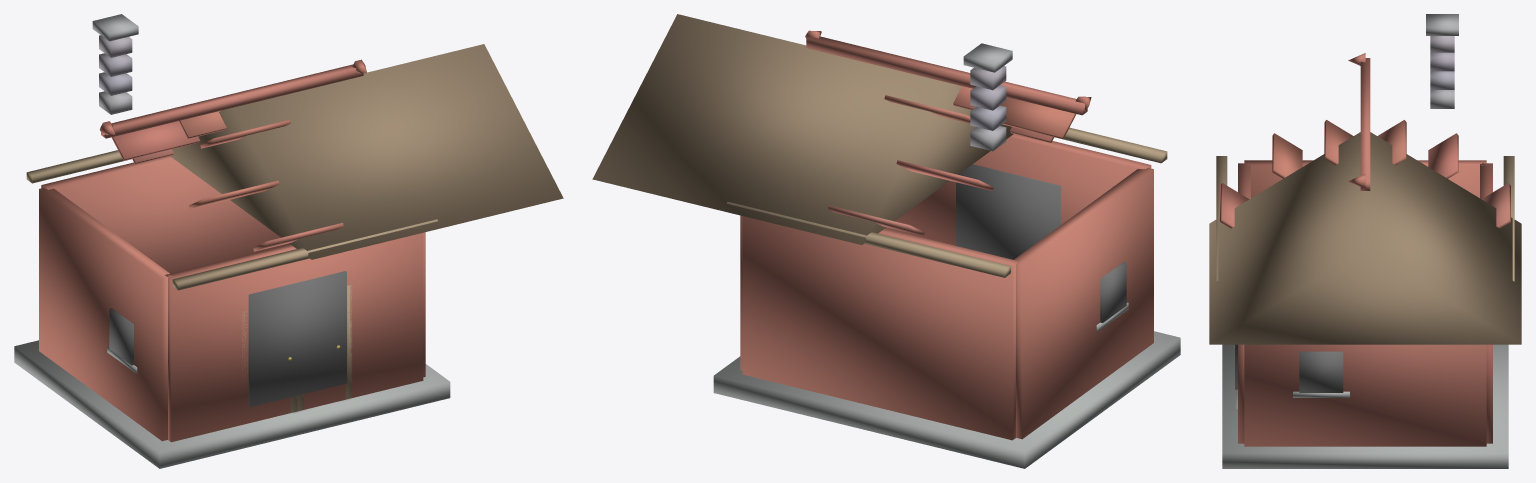
File: building_barn.glb
The picture shows the model from 3 angles, left to right: view 1: azimuth 30°, elevation 25°; view 2: azimuth 150°, elevation 25°; view 3: azimuth 270°, elevation 25°; orthographic projection. The views are drawn at different scales.
Visible parts, largest first — view 1: roof_body, front, side_-1, back, foundation, front_open, ridge, eave_1, tile_1_1, eave_-1, side_open_-1, chim_cap (+9 smaller); view 2: roof_body, back, side_-1, foundation, front, front_open, ridge, eave_-1, tile_-1_1, eave_1, side_open_-1, chim_cap (+7 smaller); view 3: roof_body, side_1, foundation, side_open_1, side_-1, ridge, front, back, tile_-1_1, tile_1_1, tile_-1_2, tile_1_2 (+9 smaller).
Boxes of the visible parts, x1,y1,x2,y2 form: roof_body: (170, 44, 563, 259); front: (165, 233, 423, 442); side_-1: (39, 187, 172, 441); back: (41, 156, 289, 273); foundation: (14, 340, 450, 468); front_open: (248, 271, 346, 406); ridge: (101, 64, 363, 138); eave_1: (172, 219, 437, 290); tile_1_1: (111, 121, 200, 160); eave_-1: (26, 150, 131, 183); side_open_-1: (109, 308, 133, 365); chim_cap: (92, 14, 138, 41); roof_body: (592, 14, 1013, 244); back: (742, 216, 1019, 440); side_-1: (1014, 167, 1153, 439); foundation: (713, 331, 1180, 468); front: (885, 134, 1151, 245); front_open: (956, 164, 1061, 259); ridge: (806, 36, 1087, 115); eave_-1: (727, 202, 1010, 277); tile_-1_1: (1000, 97, 1076, 139); eave_1: (1055, 127, 1167, 163); side_open_-1: (1100, 261, 1126, 322); chim_cap: (963, 43, 1012, 72); roof_body: (1209, 132, 1521, 344); side_1: (1244, 344, 1486, 446); foundation: (1222, 344, 1508, 468); side_open_1: (1299, 351, 1343, 392); side_-1: (1244, 160, 1486, 197); ridge: (1360, 58, 1370, 190); front: (1238, 163, 1250, 443); back: (1480, 163, 1492, 443); tile_-1_1: (1272, 133, 1302, 178); tile_1_1: (1428, 133, 1458, 178); tile_-1_2: (1324, 120, 1353, 165); tile_1_2: (1377, 120, 1406, 165).
Size of the model in its own units: 4.1 by 3.42 by 2.84.
